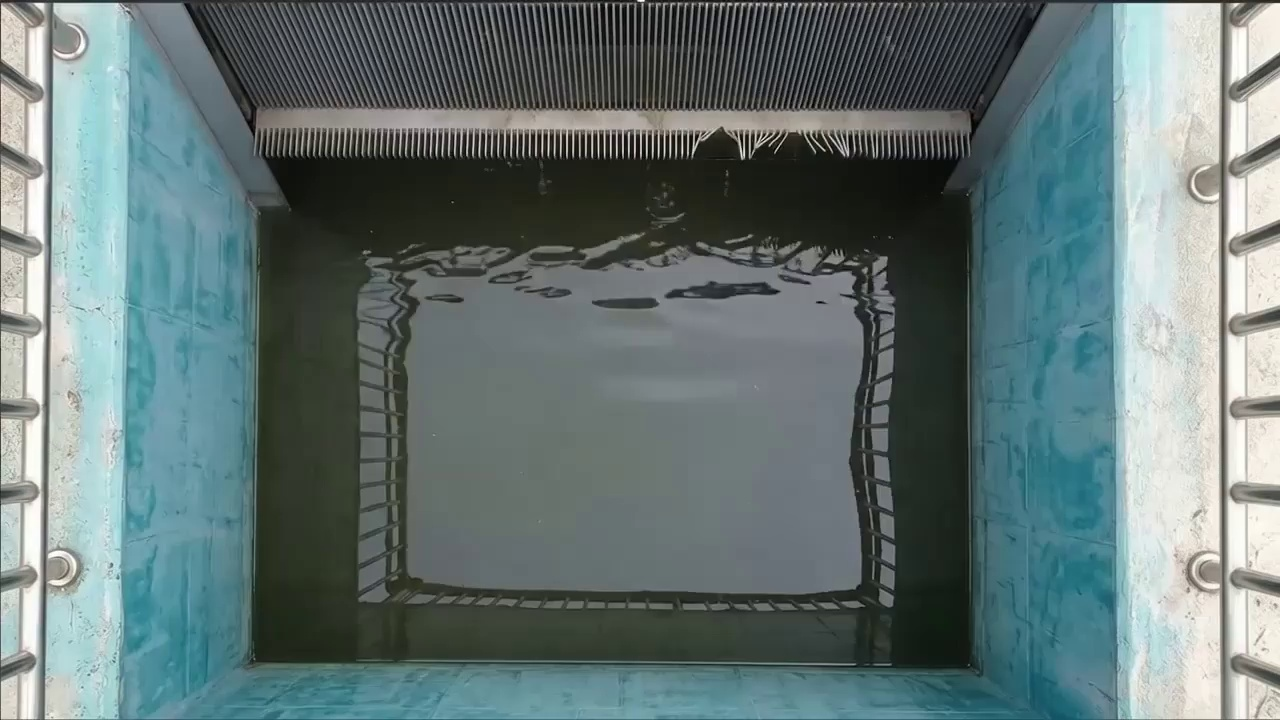damage: (687, 125, 881, 165)
